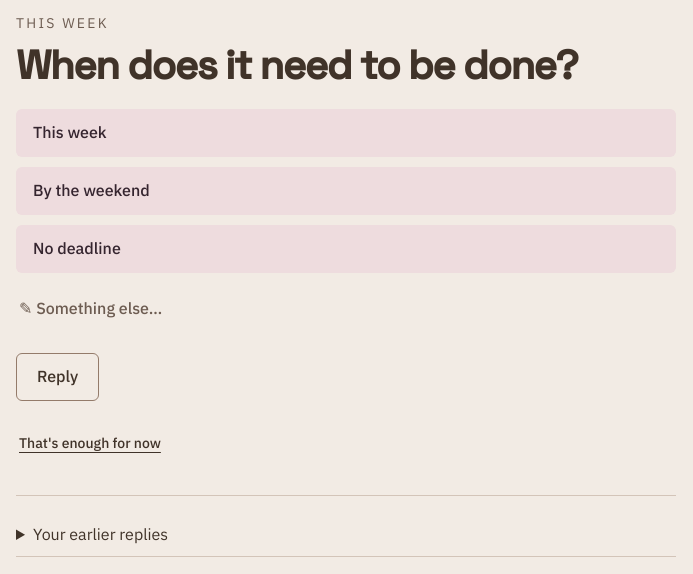
finishes with what was named from the quiet button on a later turn
Click the button "That's enough for now" at [90, 444], box [16,421,164,467]
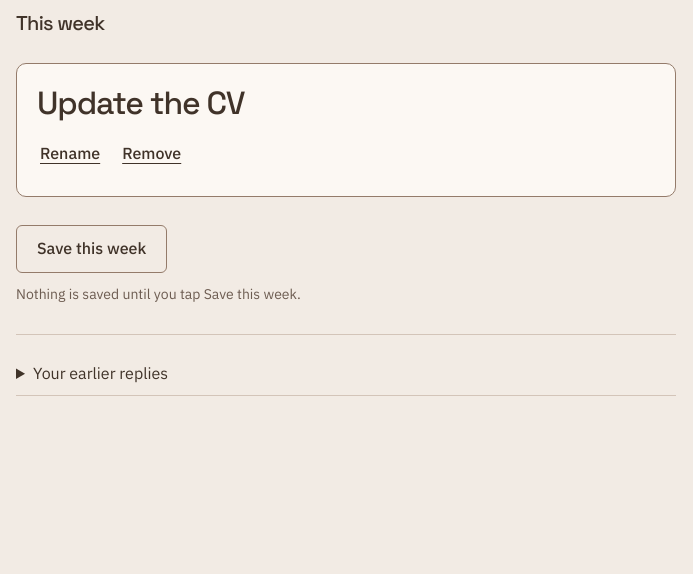
expect the heading "Update the CV" is shown: met, box [37,83,244,123]
